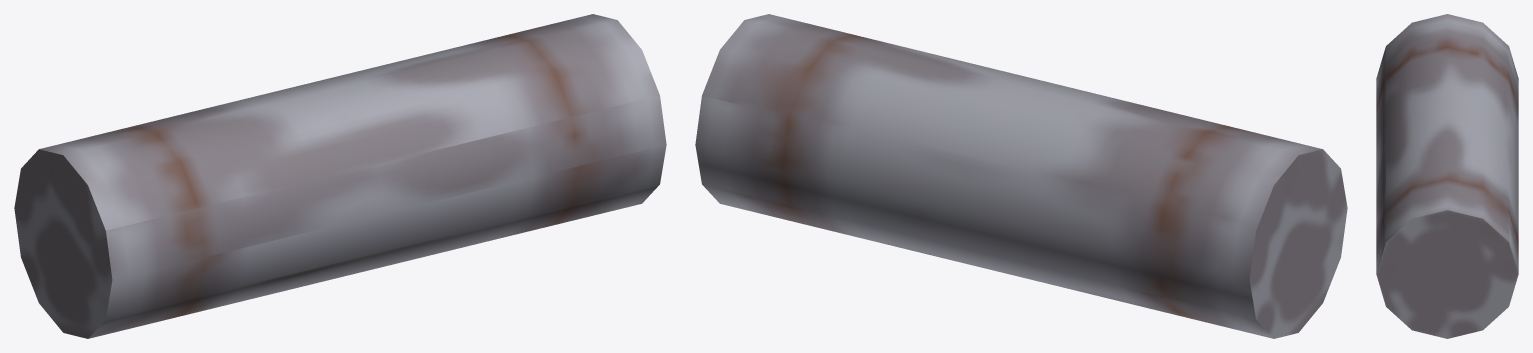
File: Parts_Hinge_Connector.fbx
3 views of the same model, side by side, from view 1: azimuth 30°, elevation 25°; view 2: azimuth 150°, elevation 25°; view 3: azimuth 270°, elevation 25° (orthographic). The views are drawn at different scales.
Visible parts, largest first — view 1: Parts_Hinge_Connector; view 2: Parts_Hinge_Connector; view 3: Parts_Hinge_Connector.
Boxes of the visible parts, box(x1,y1,x2,y2) form: Parts_Hinge_Connector: box(14, 14, 666, 338); Parts_Hinge_Connector: box(695, 14, 1347, 338); Parts_Hinge_Connector: box(1376, 14, 1518, 338).
Bounding box in the file's own units: 7.87 × 2.41 × 2.41.
